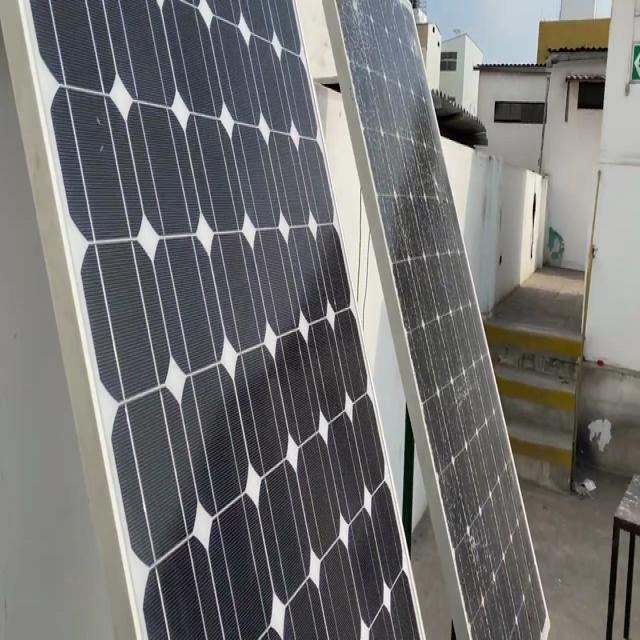Anomaly Solar Panel: (333, 0, 551, 640)
Normal Solar Panel: (16, 0, 424, 639)
Structural Damage: (460, 526, 485, 562), (348, 0, 364, 20), (428, 172, 444, 192), (406, 37, 420, 57)
